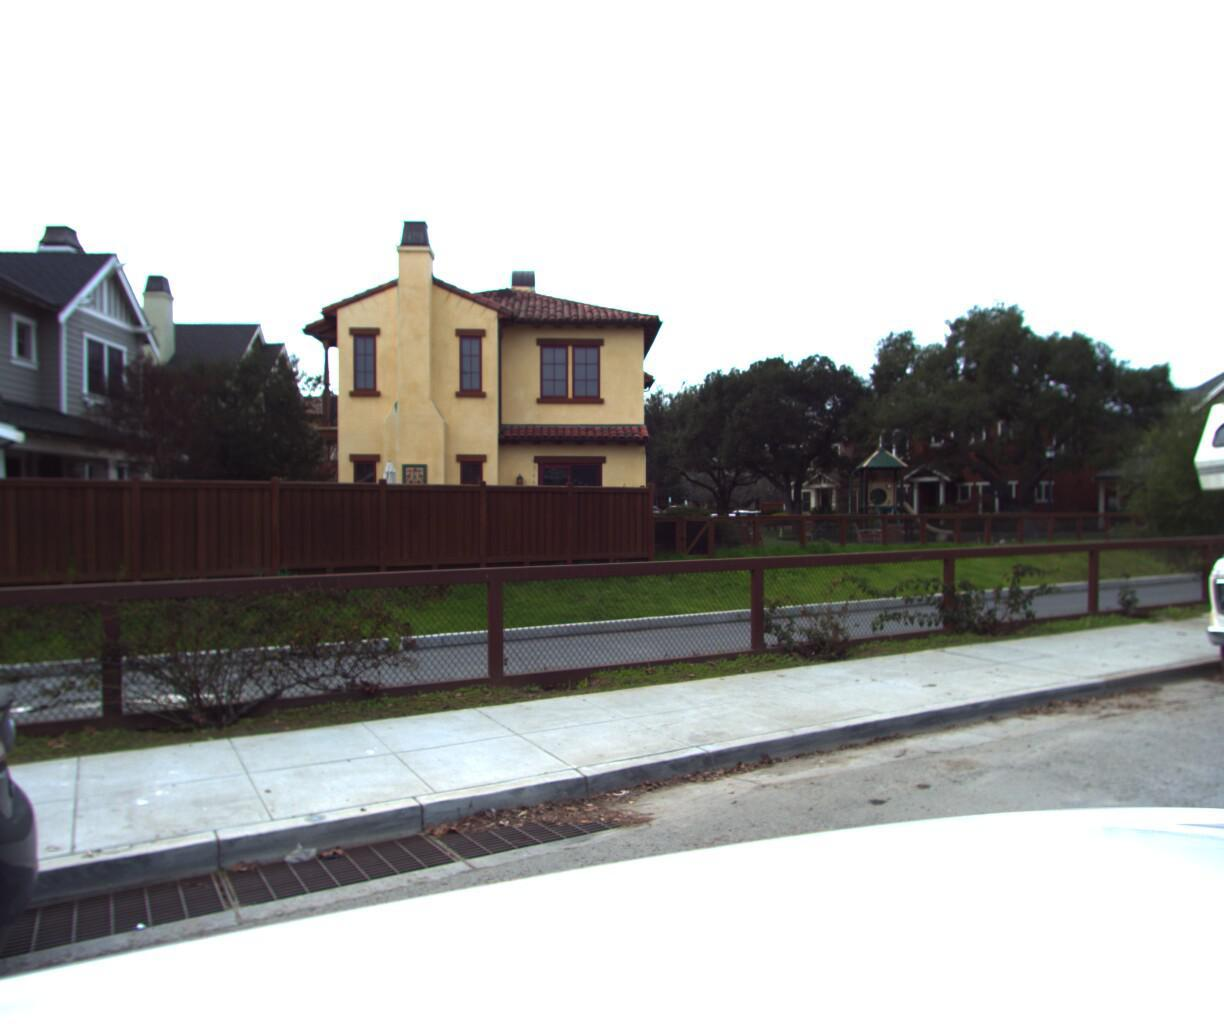other_vehicle: (1145, 252, 1224, 729)
